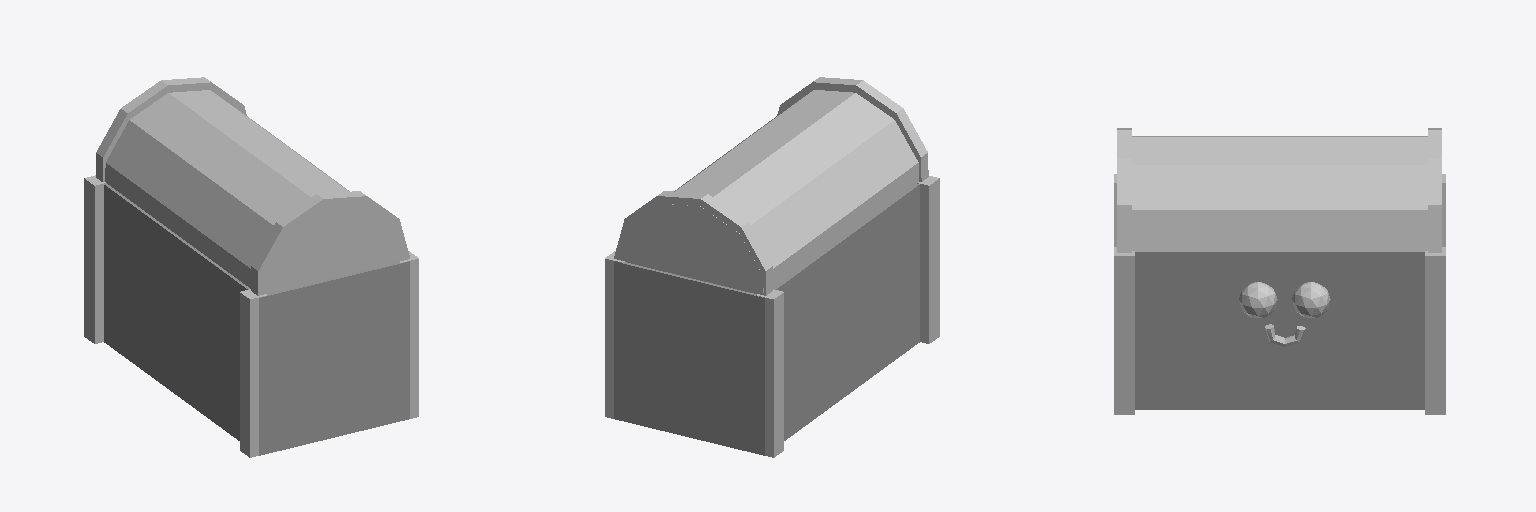
File: bau.obj
3 views of the same model, side by side, from view 1: azimuth 30°, elevation 25°; view 2: azimuth 150°, elevation 25°; view 3: azimuth 270°, elevation 25° (orthographic).
Parts seen in each view (by area): view 1: Cube, Cylinder, Cylinder.001, Cube.003, Cube.004, Cylinder.002, Cube.001; view 2: Cube, Cylinder, Cube.004, Cube.003, Cylinder.002, Cylinder.001, Cube.002; view 3: Cube, Cylinder, Cube.002, Cube.001, Cylinder.001, Cylinder.002, Icosphere.001, Icosphere.
Part boxes in pixels (left/top/right/bottom): Cube: left=104, top=184, right=409, bottom=455; Cylinder: left=105, top=90, right=349, bottom=288; Cylinder.001: left=251, top=191, right=409, bottom=295; Cube.003: left=84, top=175, right=106, bottom=343; Cube.004: left=240, top=289, right=267, bottom=457; Cylinder.002: left=96, top=77, right=246, bottom=181; Cube.001: left=400, top=251, right=418, bottom=418; Cube: left=614, top=184, right=919, bottom=455; Cylinder: left=618, top=90, right=918, bottom=294; Cube.004: left=917, top=176, right=939, bottom=343; Cube.003: left=756, top=289, right=783, bottom=457; Cylinder.002: left=614, top=191, right=772, bottom=295; Cylinder.001: left=777, top=77, right=928, bottom=181; Cube.002: left=605, top=251, right=624, bottom=418; Cube: left=1114, top=183, right=1445, bottom=409; Cylinder: left=1132, top=136, right=1427, bottom=251; Cube.002: left=1425, top=247, right=1445, bottom=414; Cube.001: left=1114, top=247, right=1134, bottom=414; Cylinder.001: left=1117, top=128, right=1131, bottom=252; Cylinder.002: left=1428, top=128, right=1441, bottom=252; Icosphere.001: left=1239, top=282, right=1277, bottom=317; Icosphere: left=1292, top=282, right=1330, bottom=317.
Bounding box in the file's own units: 2.36 × 3.03 × 3.82.